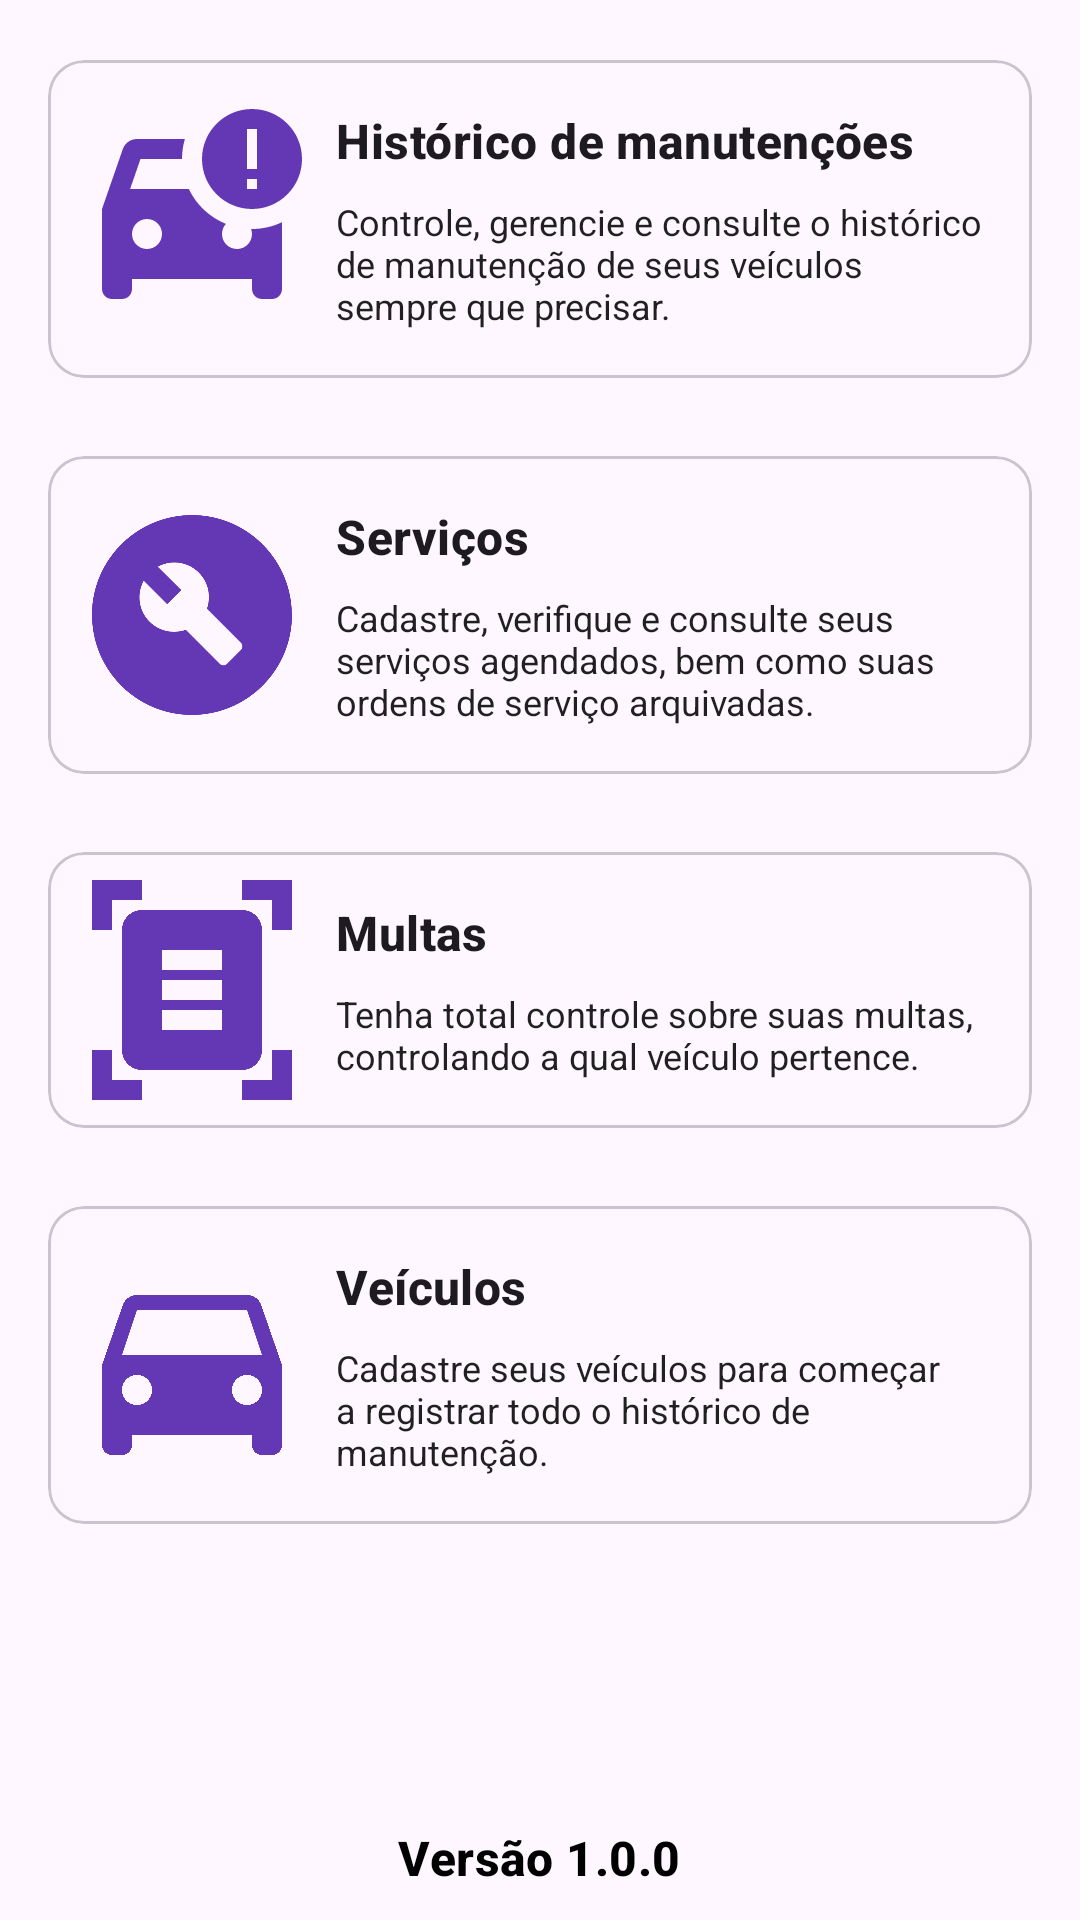

Named icons in this screenshot (1080×1920) and their bounding boxes, (x1, y1, x2, y2):
maintenance: (102, 109, 302, 299)
service: (92, 515, 292, 715)
traffic ticket: (92, 880, 292, 1100)
vehicle: (102, 1295, 282, 1455)
